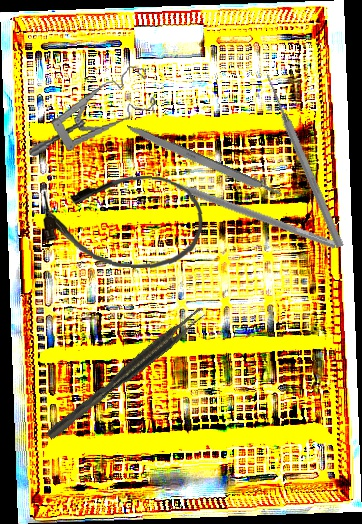Cannula: (38, 170, 207, 272)
Pusher: (262, 73, 346, 249)
Scalpel Handle: (124, 122, 282, 201)
Spatula Surgical: (149, 165, 340, 250)
Speculum: (18, 63, 162, 159)
Tissue Forceps: (41, 304, 211, 441)
